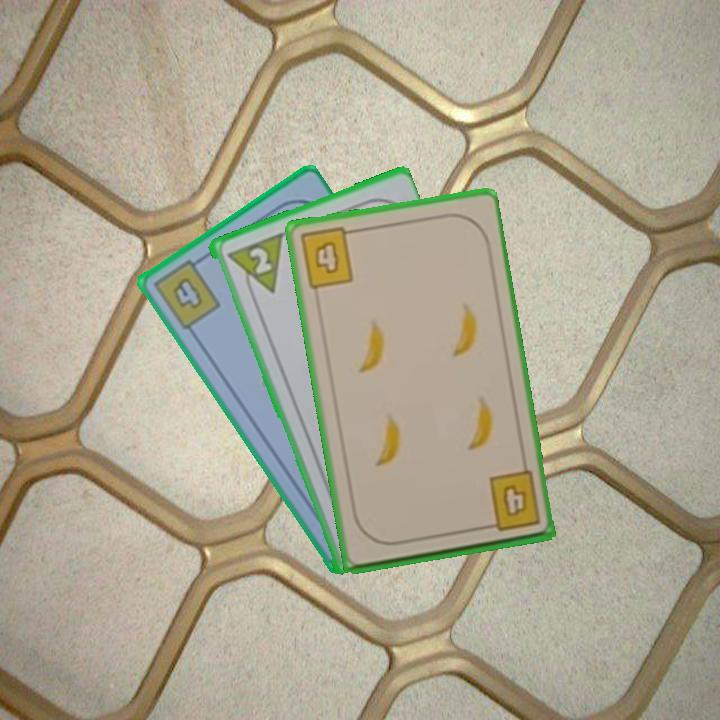2p: (221, 229, 285, 303)
4b: (149, 252, 223, 333), (295, 224, 360, 292), (478, 467, 543, 535)
